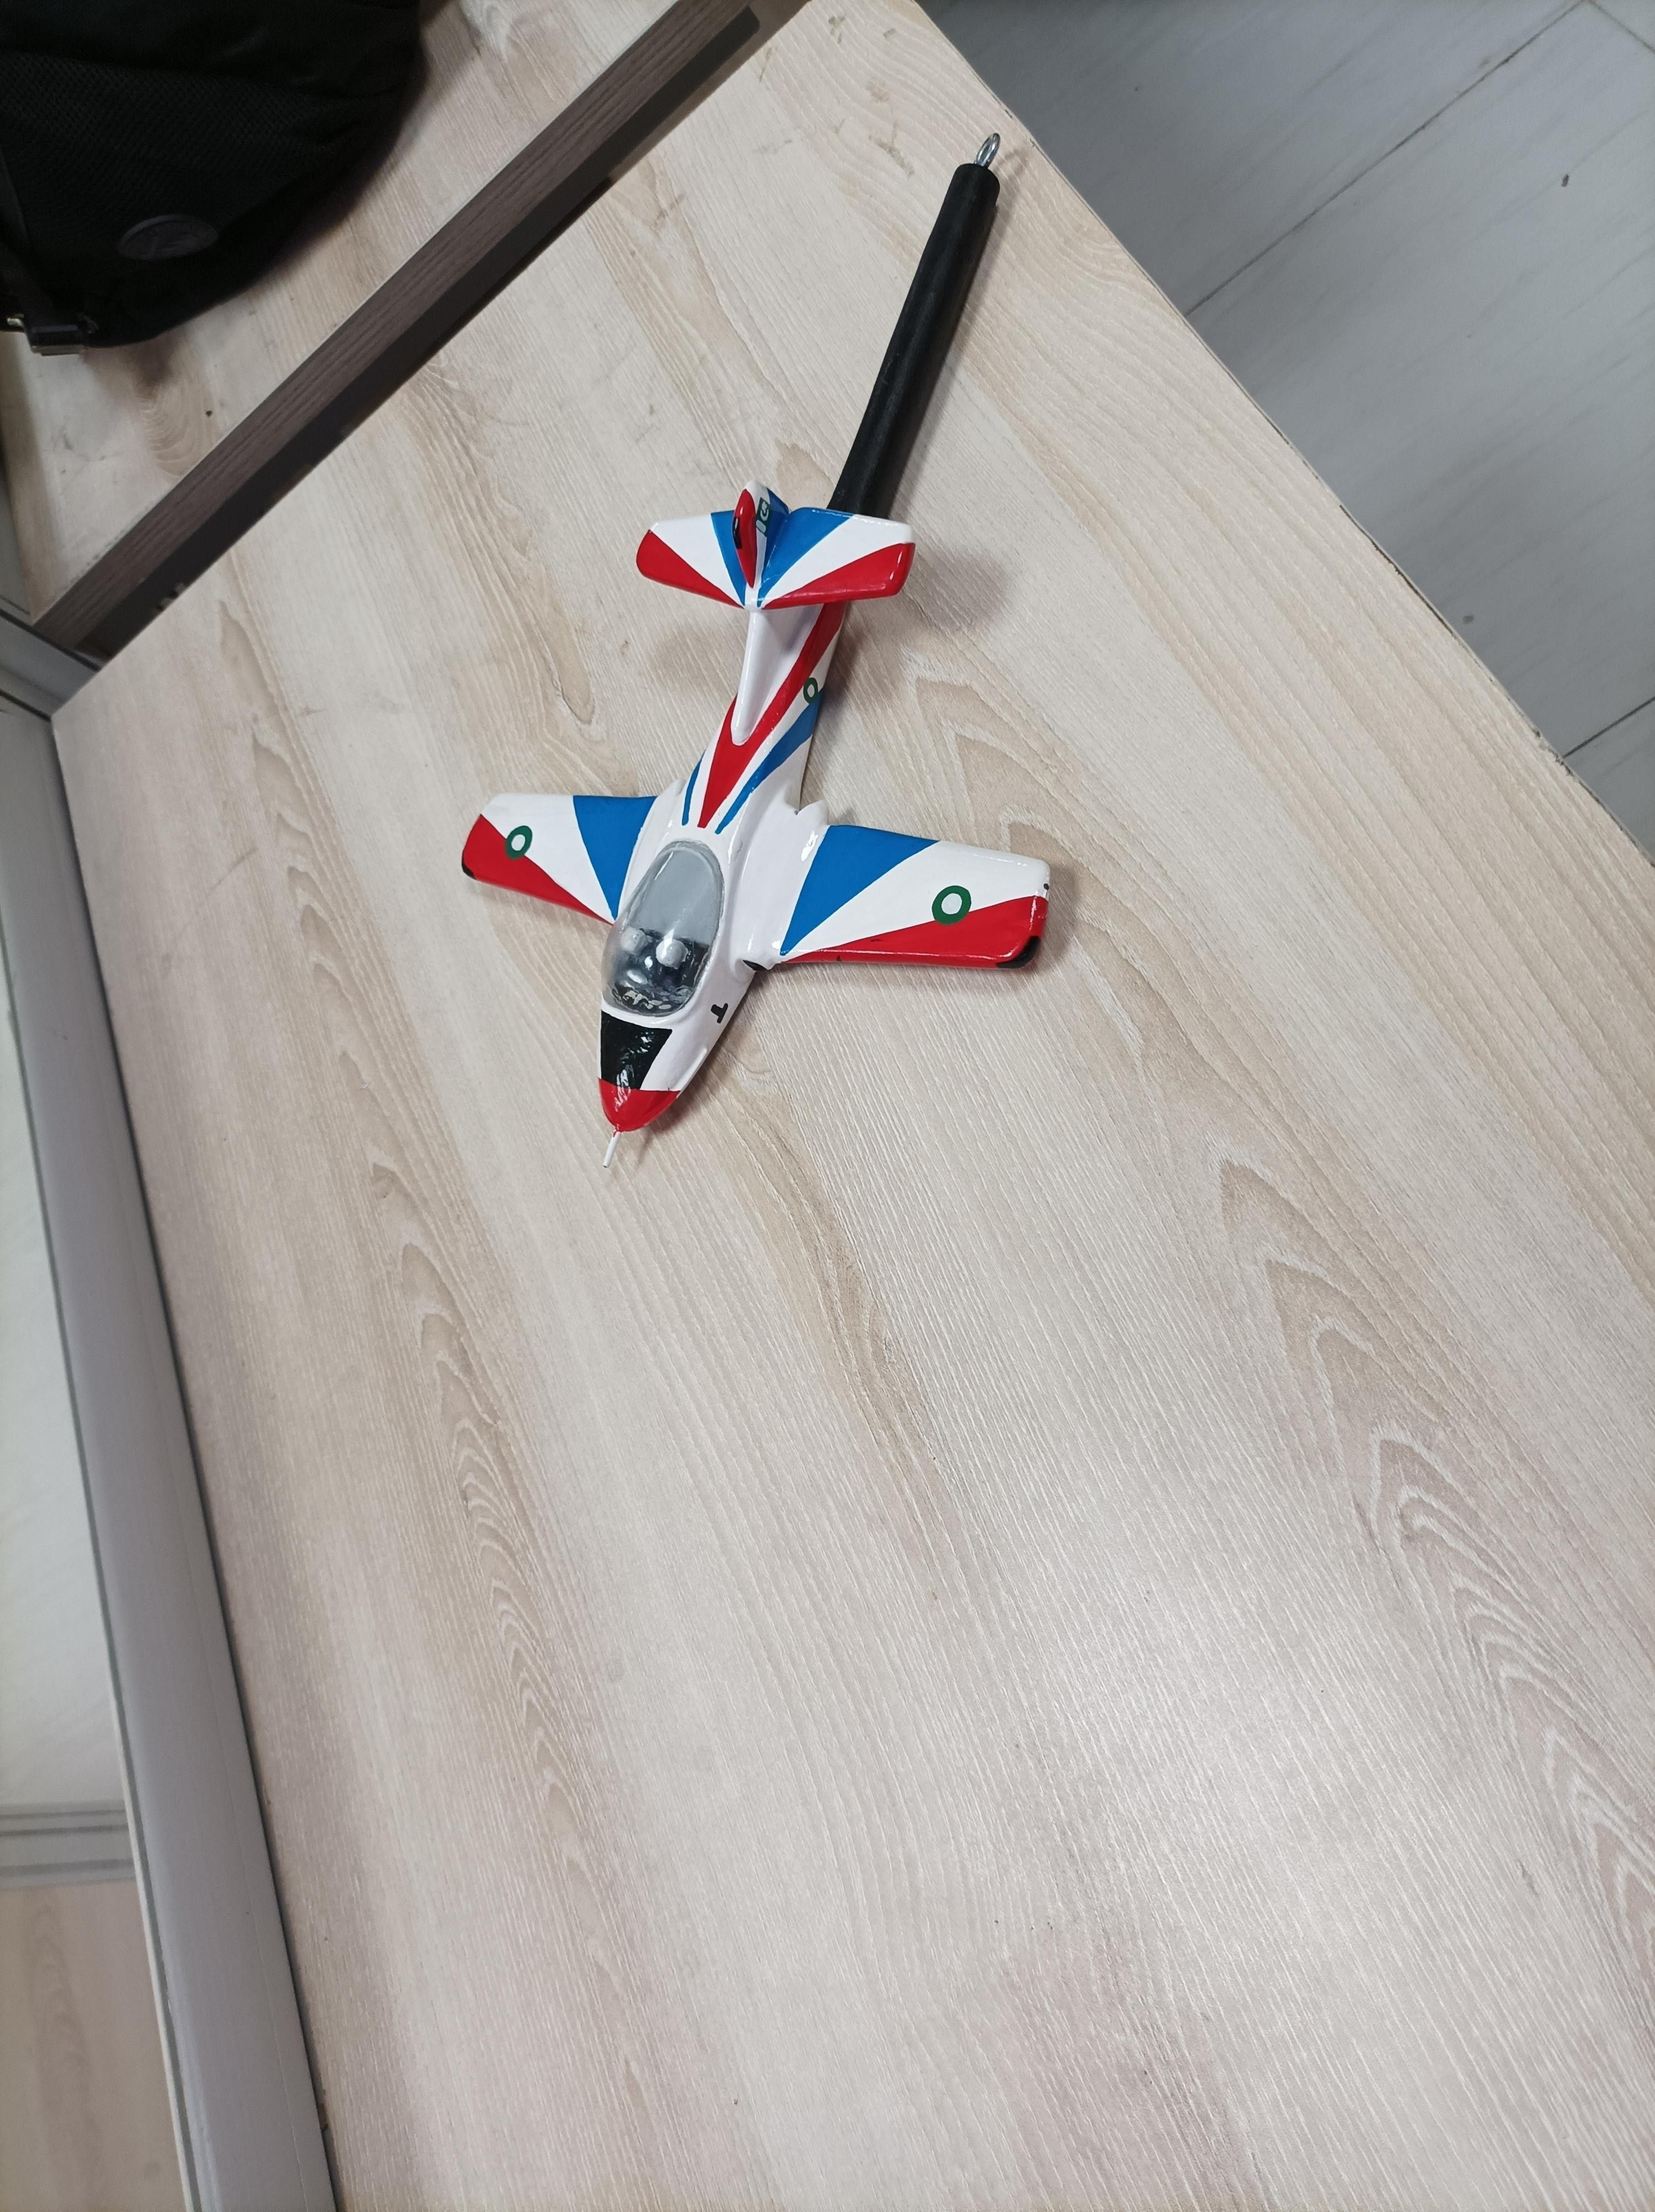Airplane: (407, 471, 1095, 1180)
